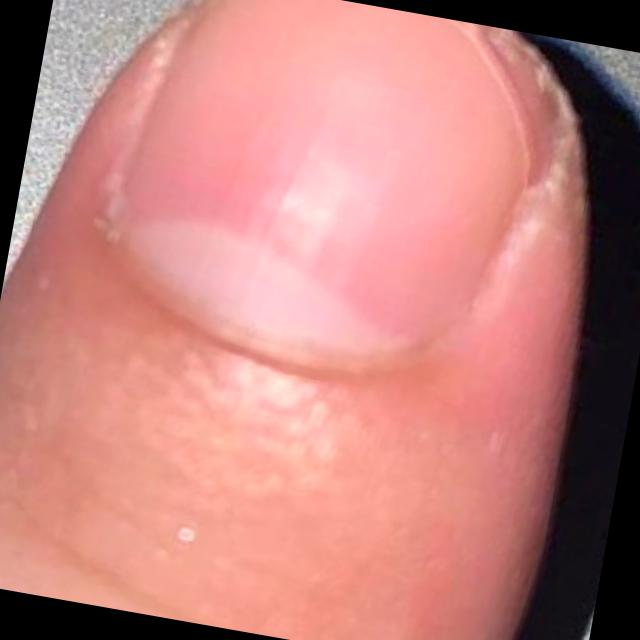Nail: (104, 0, 530, 359)
